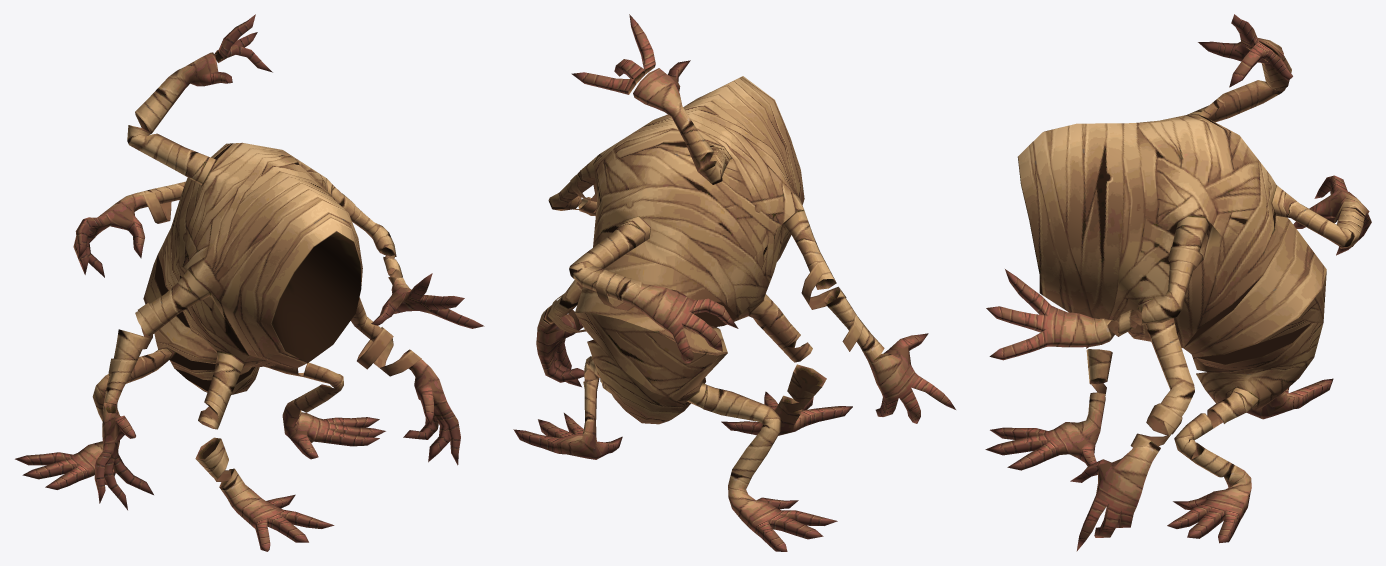
File: unbound_1a8b60a9.glb
3 views of the same model, side by side, from view 1: azimuth 30°, elevation 25°; view 2: azimuth 150°, elevation 25°; view 3: azimuth 270°, elevation 25° (orthographic). The views are drawn at different scales.
Bounding box in the file's own units: 4.17 × 4.67 × 3.44.
1 material, 1 textured.
